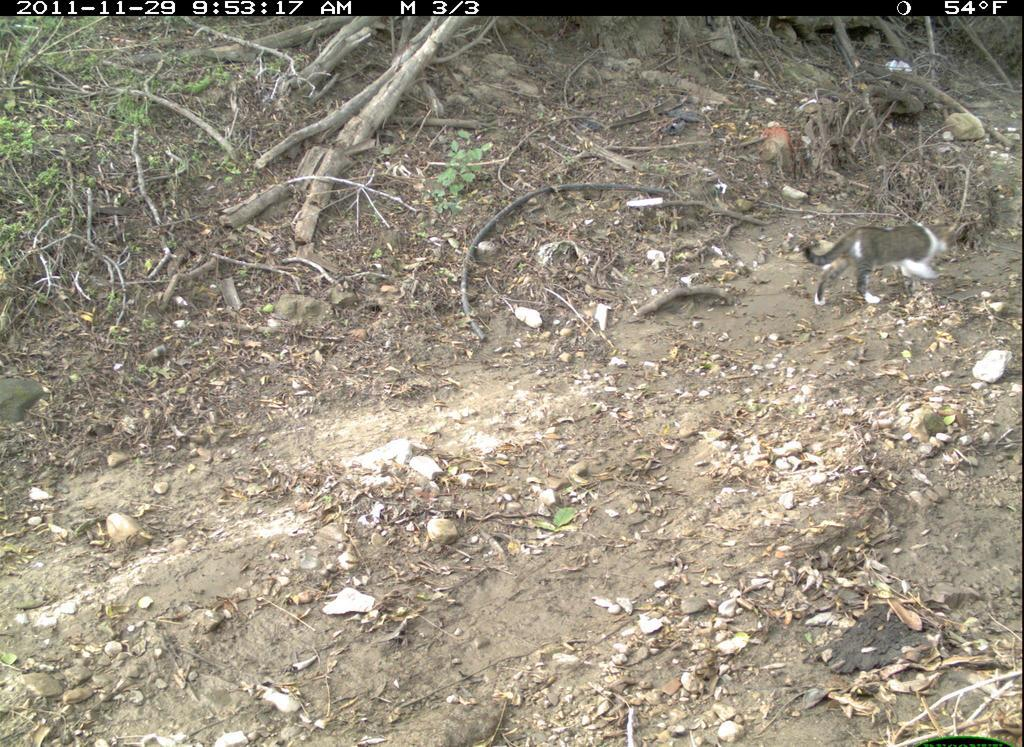cat: (798, 208, 967, 314)
